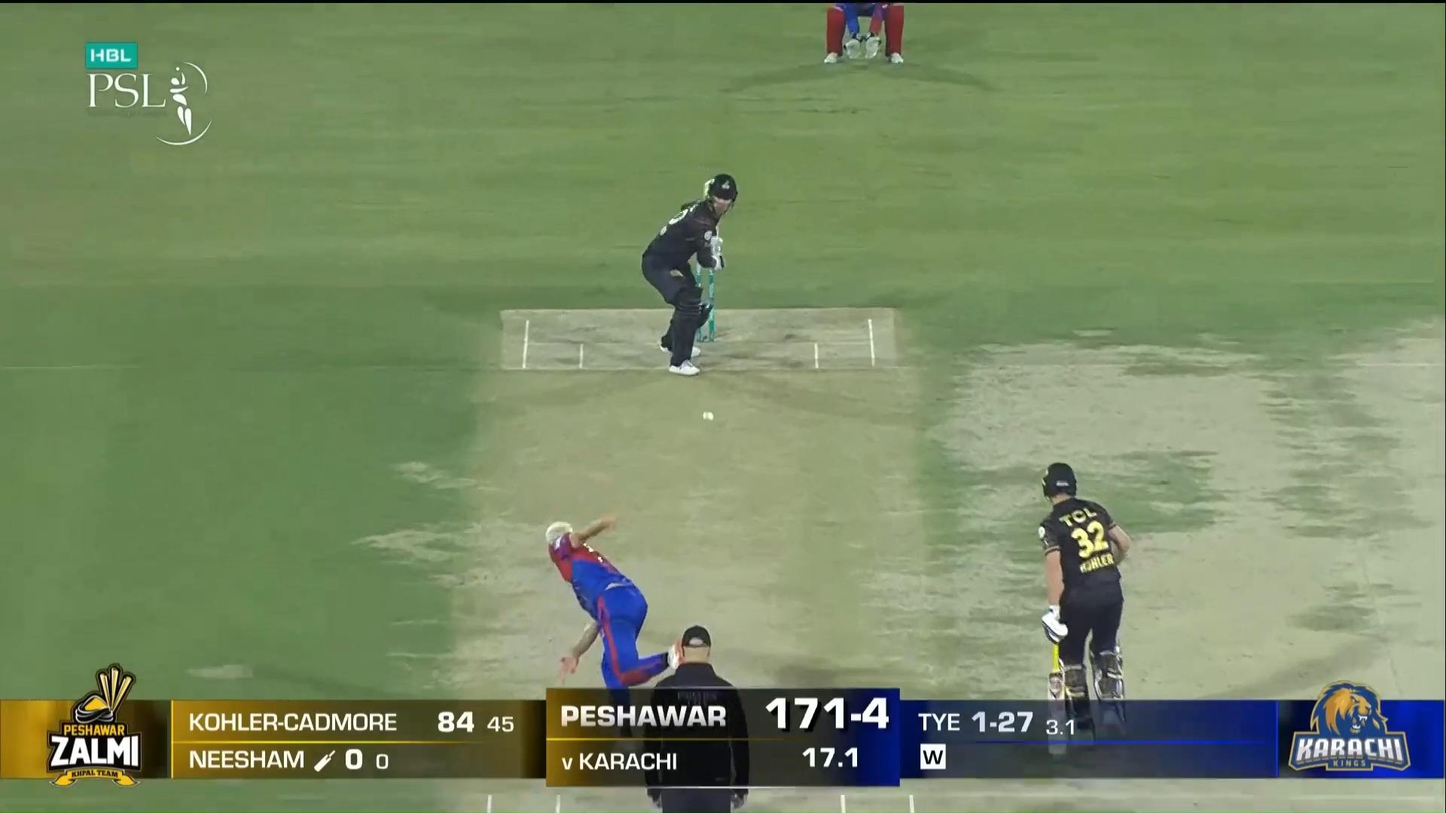batsman: (641, 173, 738, 376)
